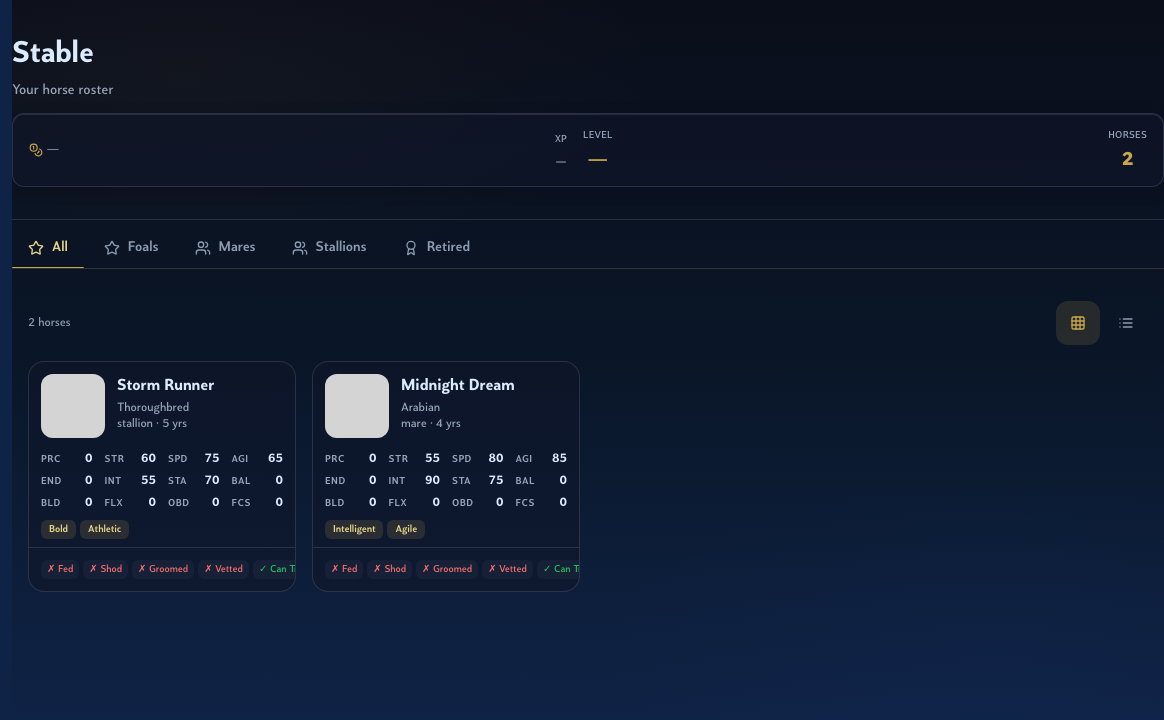
Test case: StableView — category tab filter (Equoria-o5hub.30) › Foals tab shows the honest filtered-empty state (no horses under age 3)
The width and height of the screenshot is (1164, 720).
Expected: the text "Storm Runner" is shown, [117,378,214,394]
Step 1. Click the tab "Foals" → {"x": 131, "y": 248}, box [88,228,174,268]
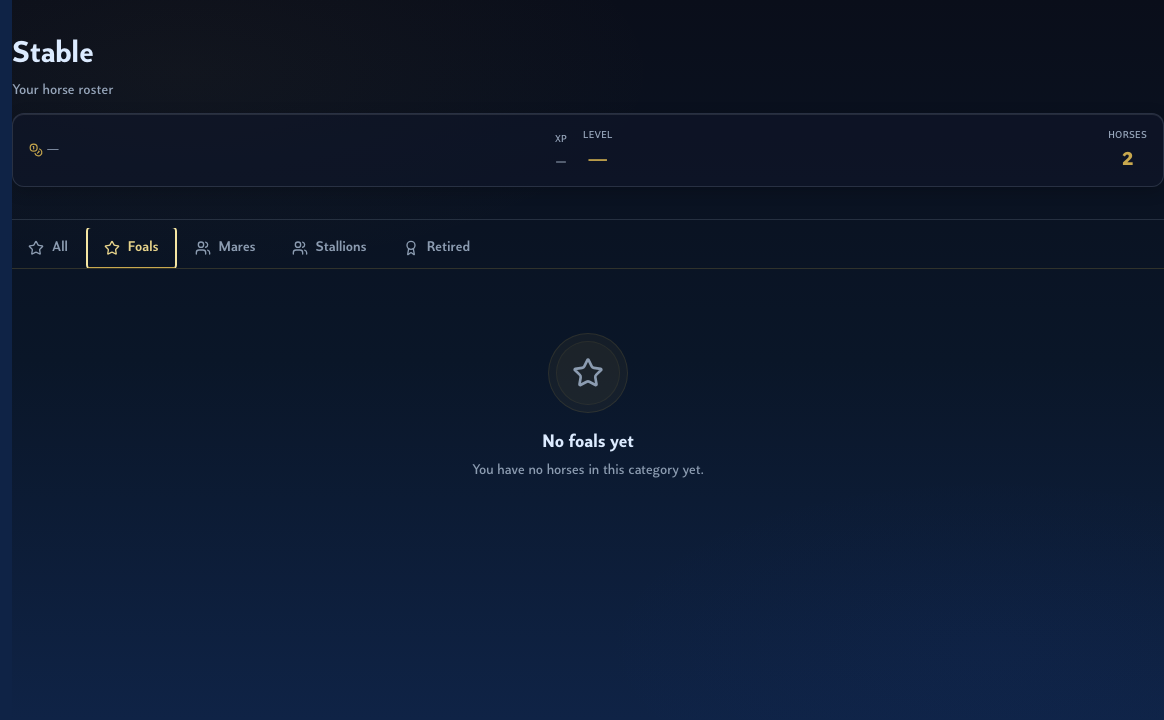
Expected: the button "Storm Runner" is gone
Expected: the button "Midnight Dream" is gone
